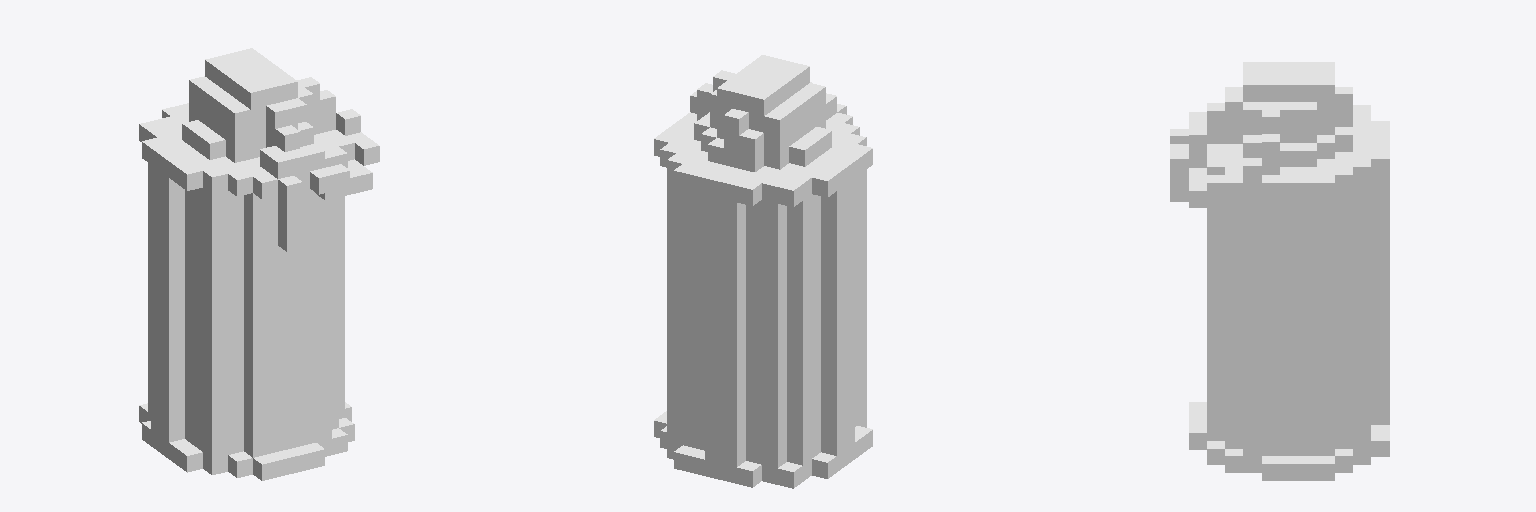
File: flara_pomniejszona.obj
3 renders of one model, left to right at view 1: azimuth 30°, elevation 25°; view 2: azimuth 150°, elevation 25°; view 3: azimuth 270°, elevation 25°, orthographic.
Visible parts, largest first — view 1: object 1; view 2: object 1; view 3: object 1.
Part boxes in pixels (bbox=[...]): object 1: bbox=[139, 48, 379, 480]; object 1: bbox=[654, 55, 872, 488]; object 1: bbox=[1170, 62, 1389, 480].
Size of the model in its own units: 1.1 by 2.2 by 1.2.